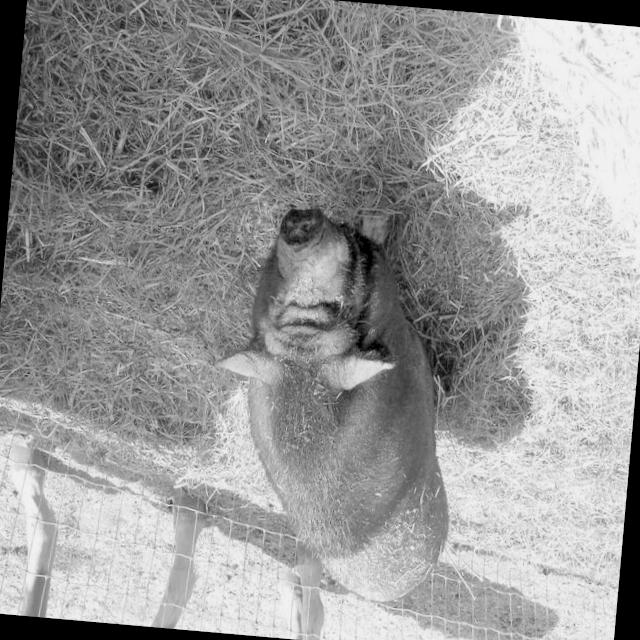pig: (218, 209, 447, 600)
